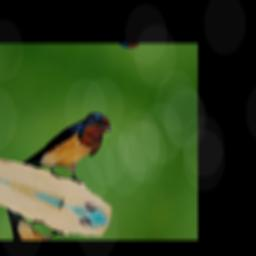Swallow: (20, 91, 116, 193)
